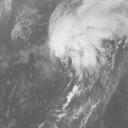cyclone: (45, 21, 102, 85)
